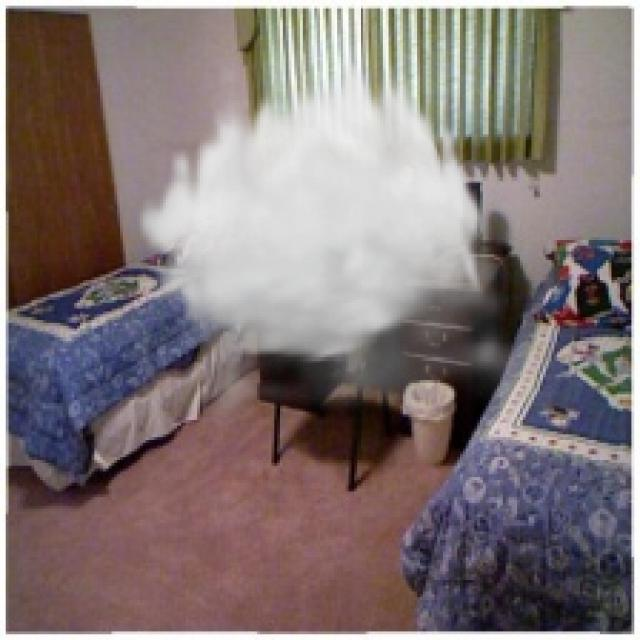smoke: (134, 52, 560, 437)
